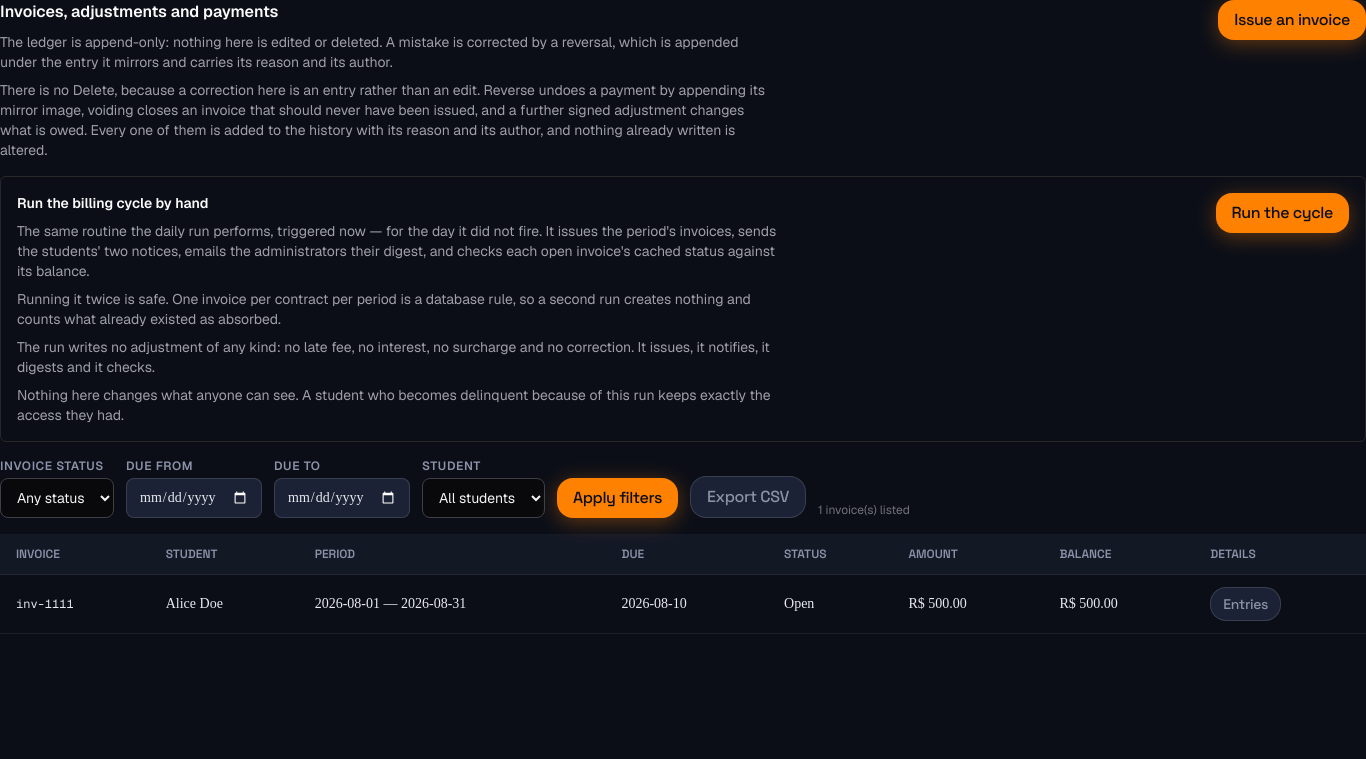
Test case: LedgerTab › offers no Delete control for a payment or an adjustment
Click the button "Entries" at coordinates (1246, 604), box [1210, 587, 1281, 621]
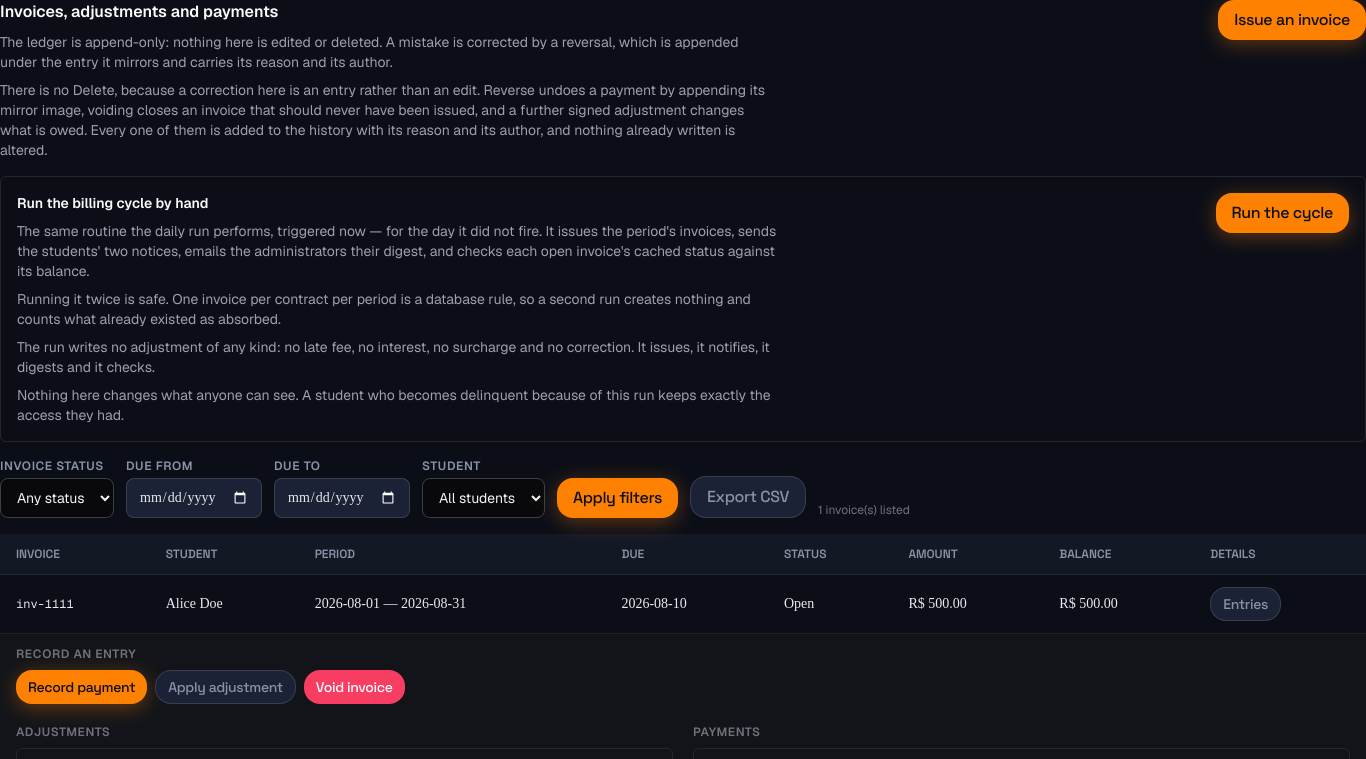
Now the heading "Payments" is shown, box [693, 724, 761, 740]
